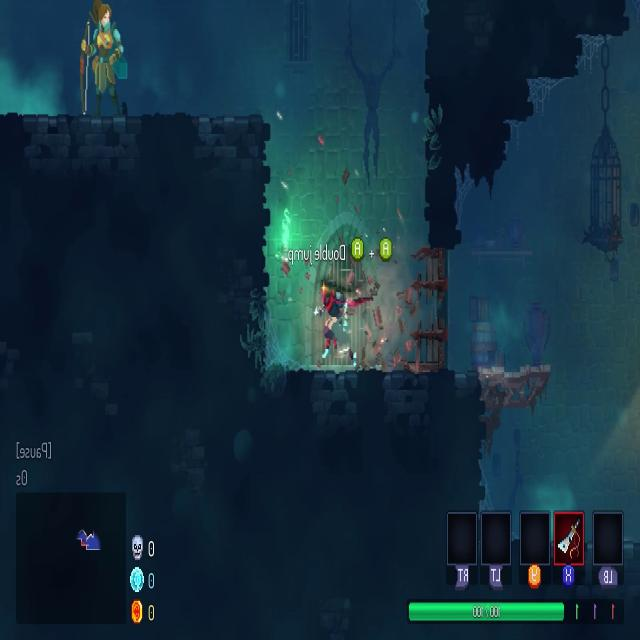agents: (316, 285, 353, 371)
